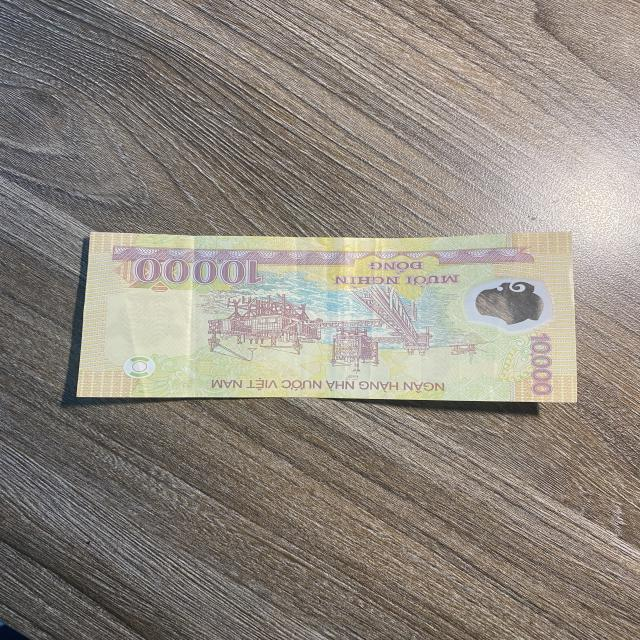10 000 VND: (70, 227, 579, 406)
